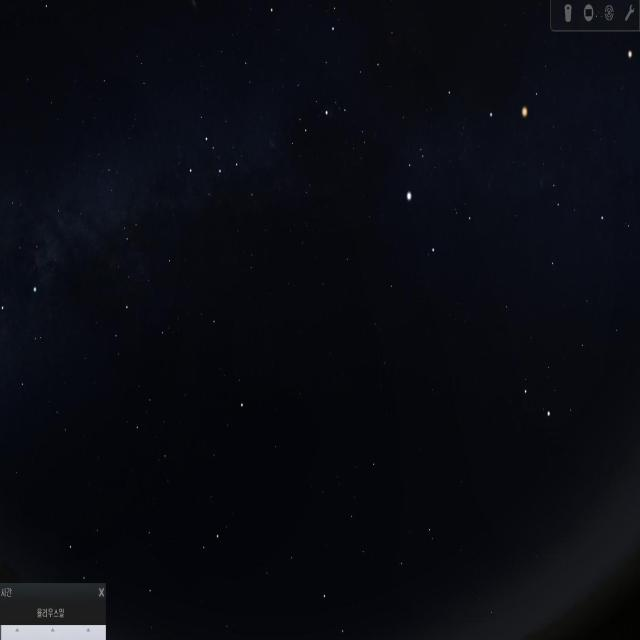cassiopeia: (175, 114, 258, 220)
